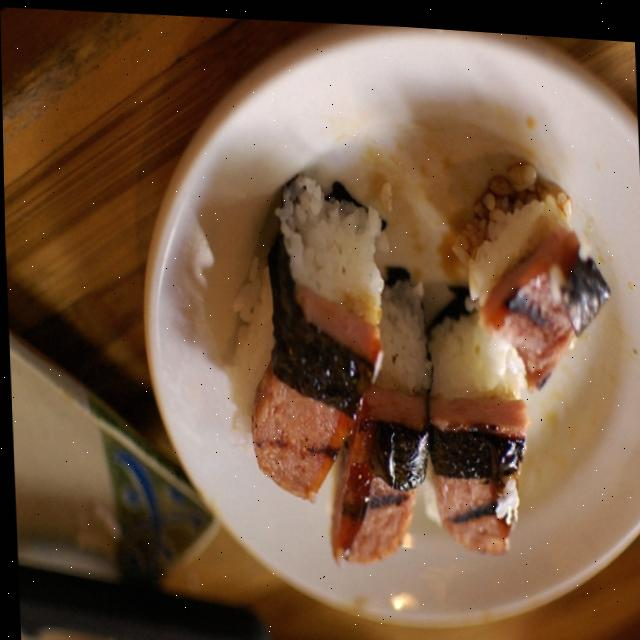寿司卷物: (147, 28, 640, 618)
